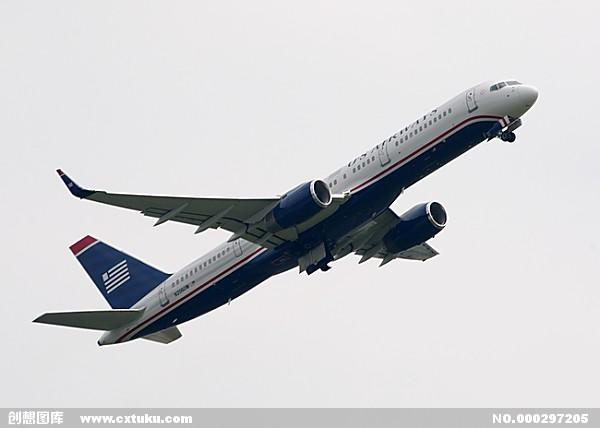airplane: (18, 76, 546, 359)
